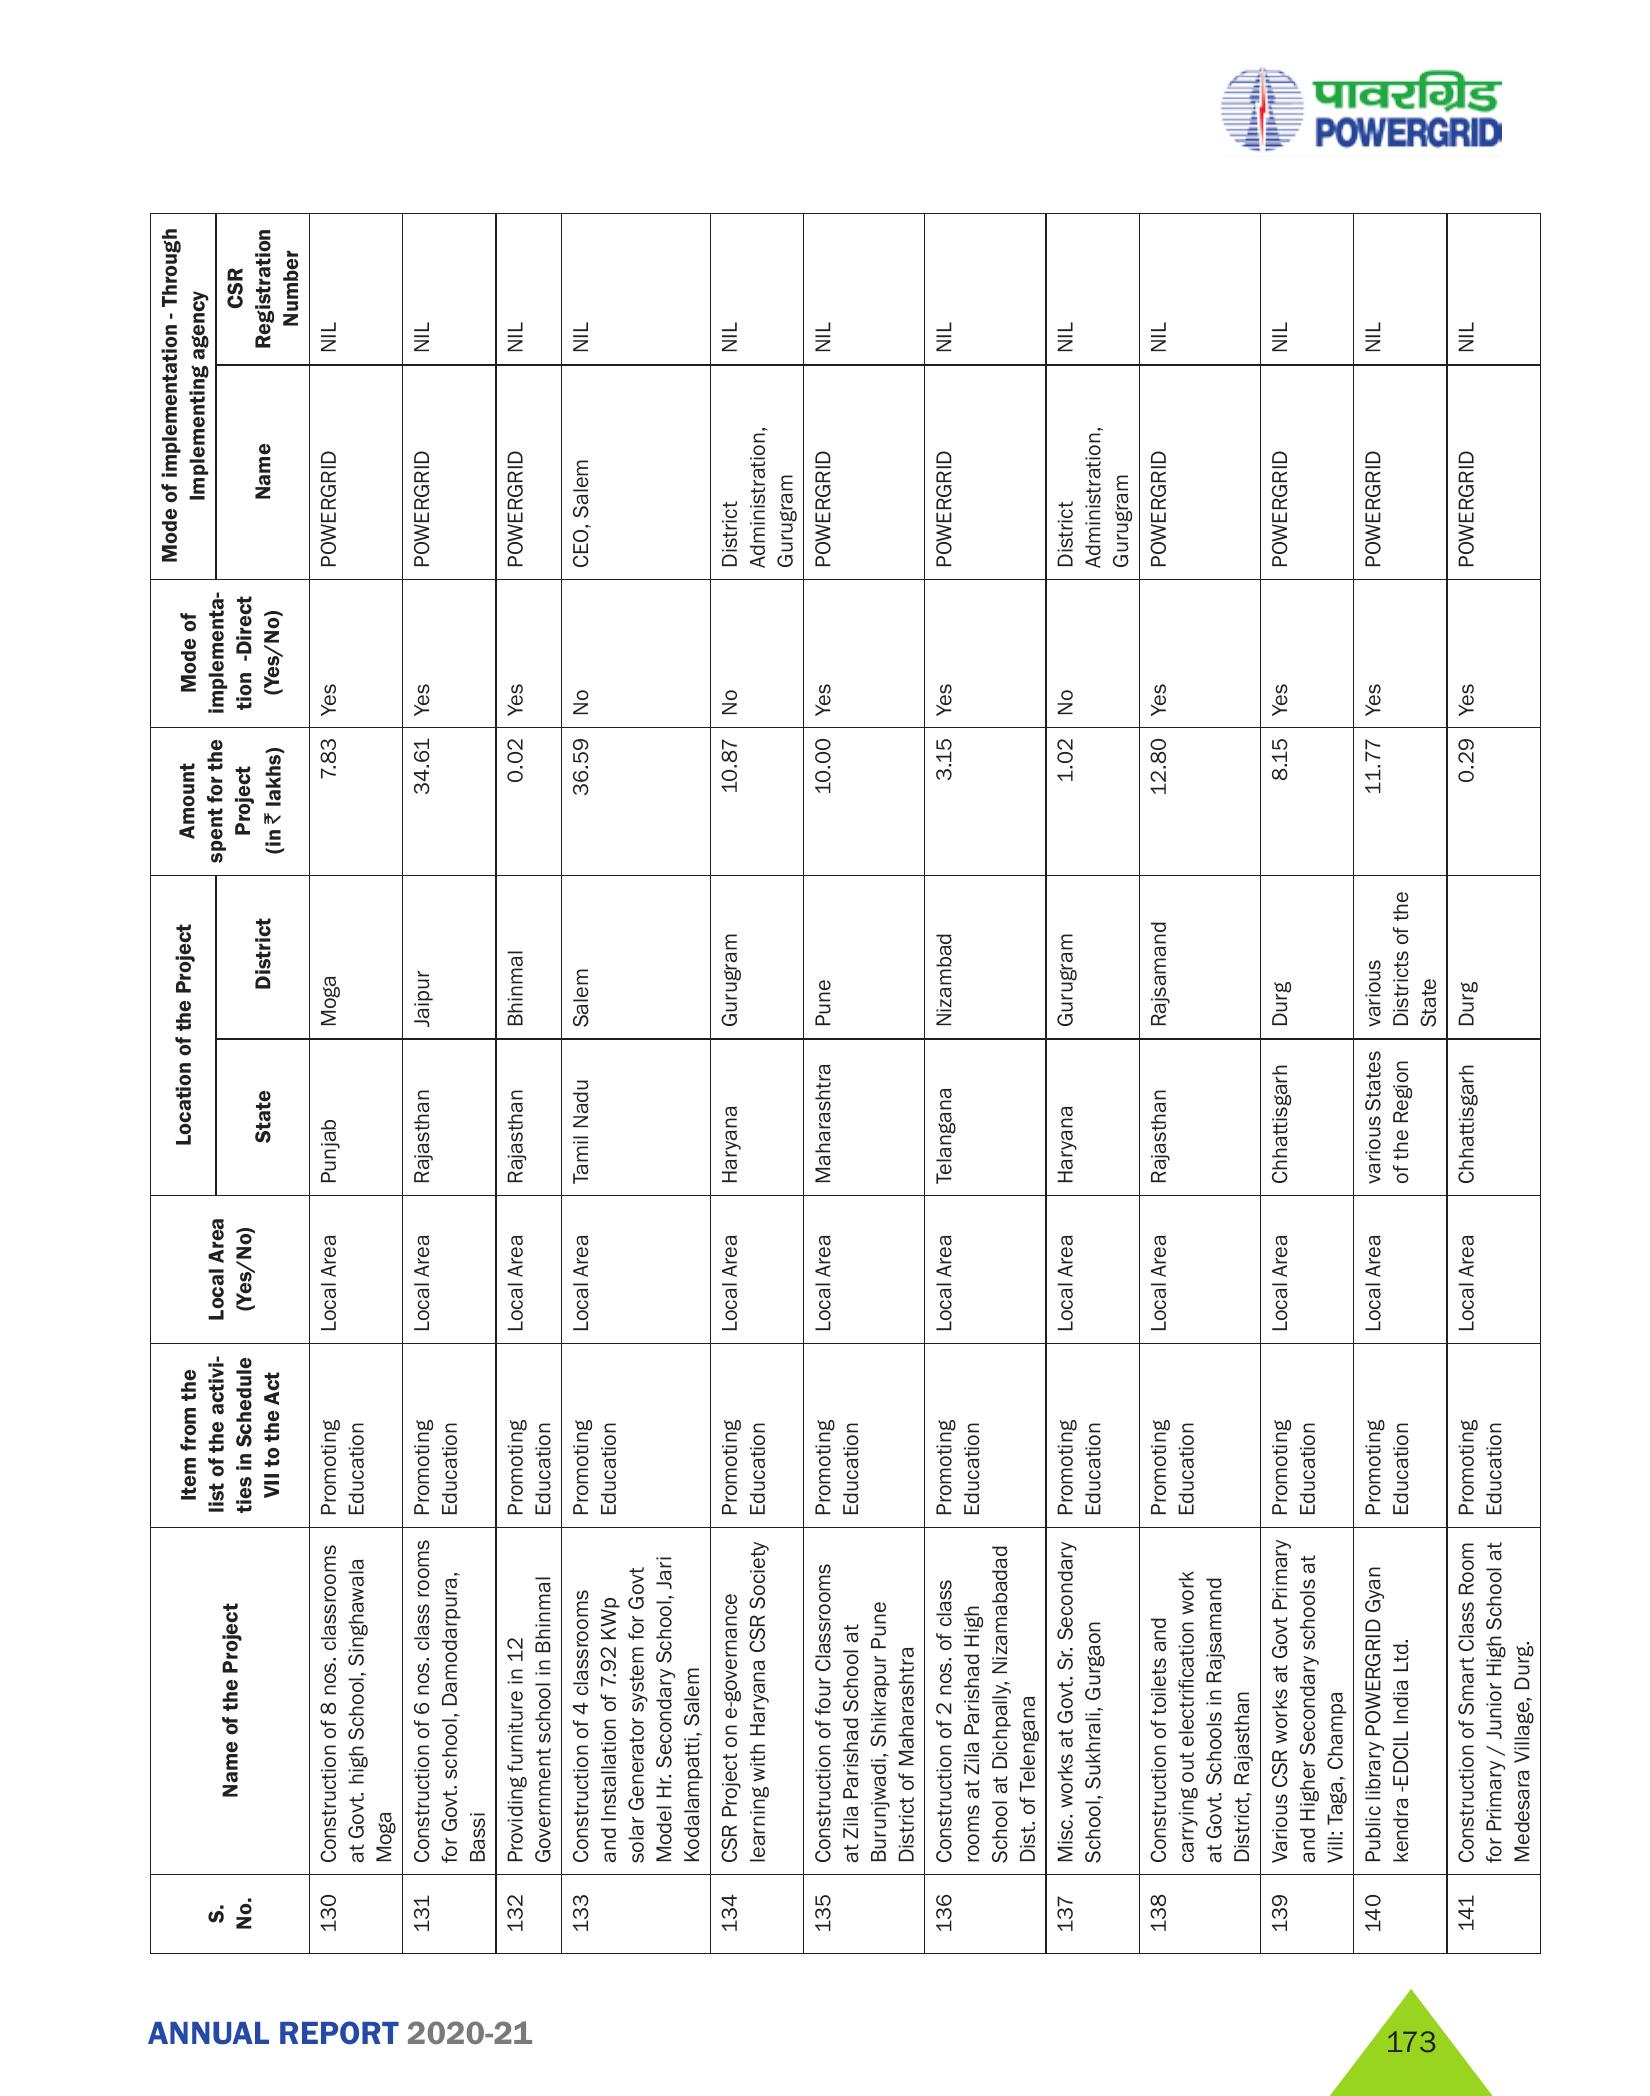Footer: (0, 1965, 1650, 2096)
Header: (0, 0, 1650, 180)
Table: (126, 196, 1573, 1974)
